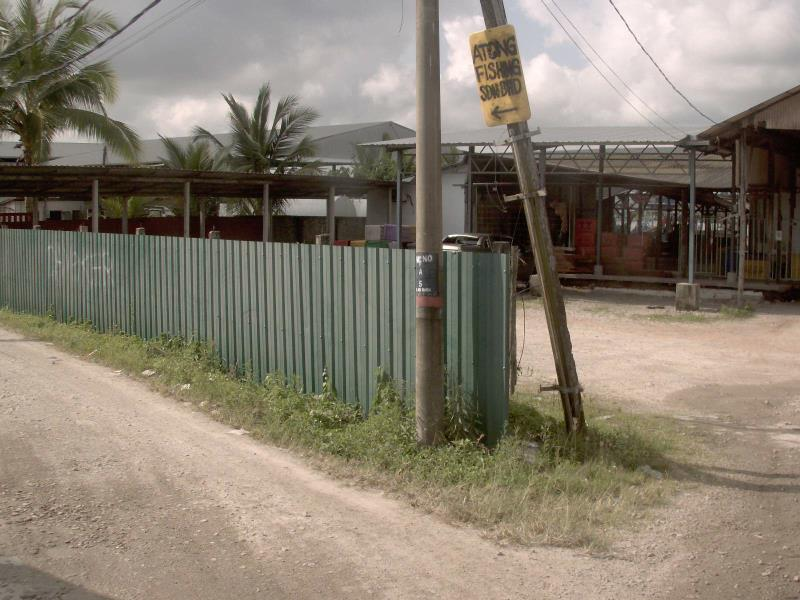ads_sign: (457, 13, 544, 141)
